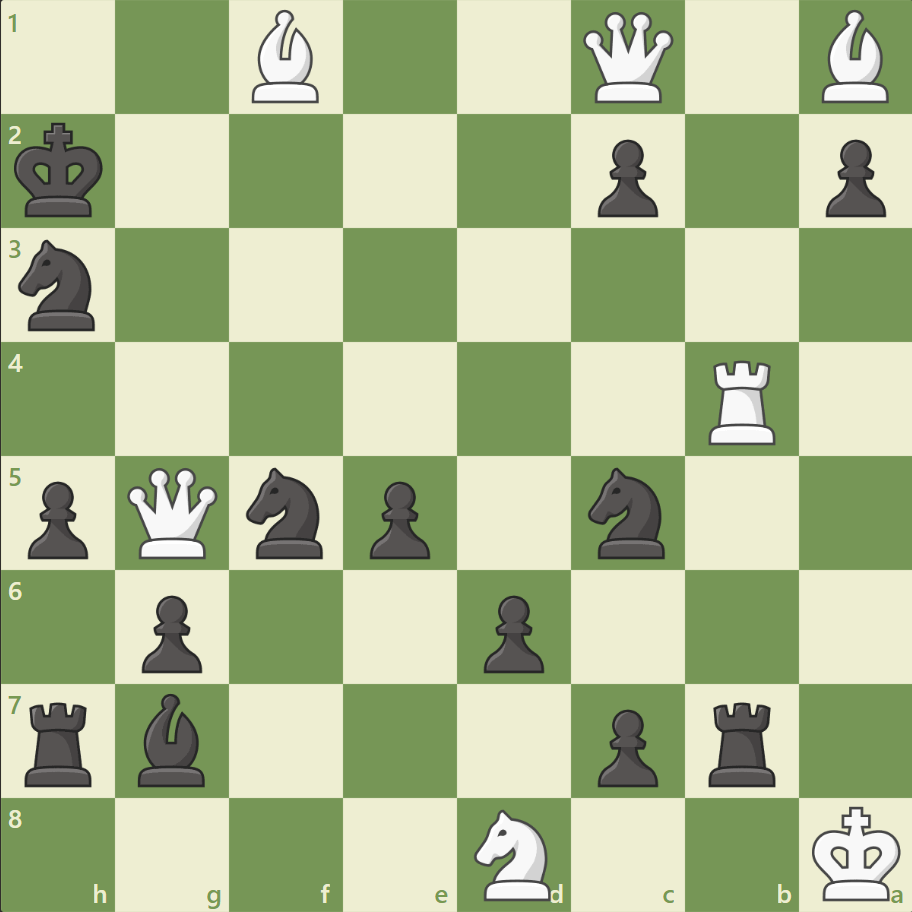B: (812, 6, 896, 109), (244, 6, 328, 109)
K: (806, 798, 906, 906)
N: (465, 802, 562, 904)
Q: (124, 463, 223, 562), (578, 9, 677, 108)
R: (700, 352, 783, 449)
b: (131, 687, 215, 790)
k: (11, 117, 111, 225)
n: (579, 461, 676, 564), (238, 461, 335, 564), (11, 234, 108, 337)
p: (474, 586, 549, 677), (133, 586, 208, 677), (20, 473, 95, 564), (588, 700, 662, 791), (361, 473, 435, 564), (815, 132, 889, 223), (588, 132, 662, 223)
r: (700, 693, 783, 790), (19, 693, 102, 790)
